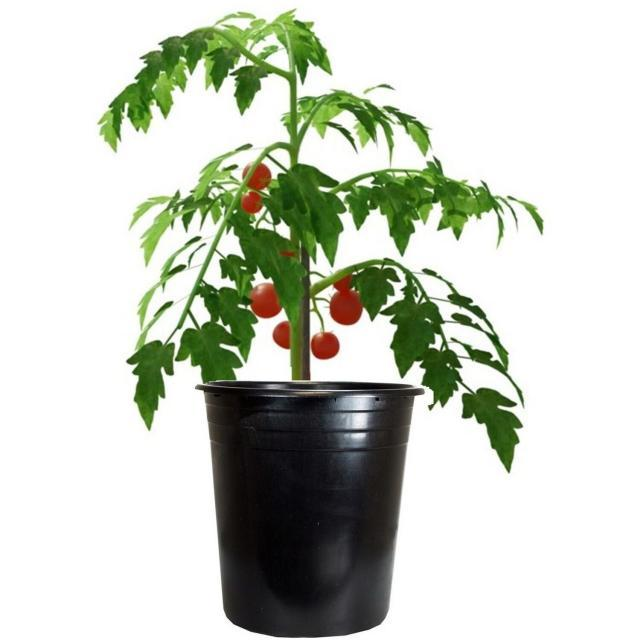tomato: (94, 9, 546, 474)
